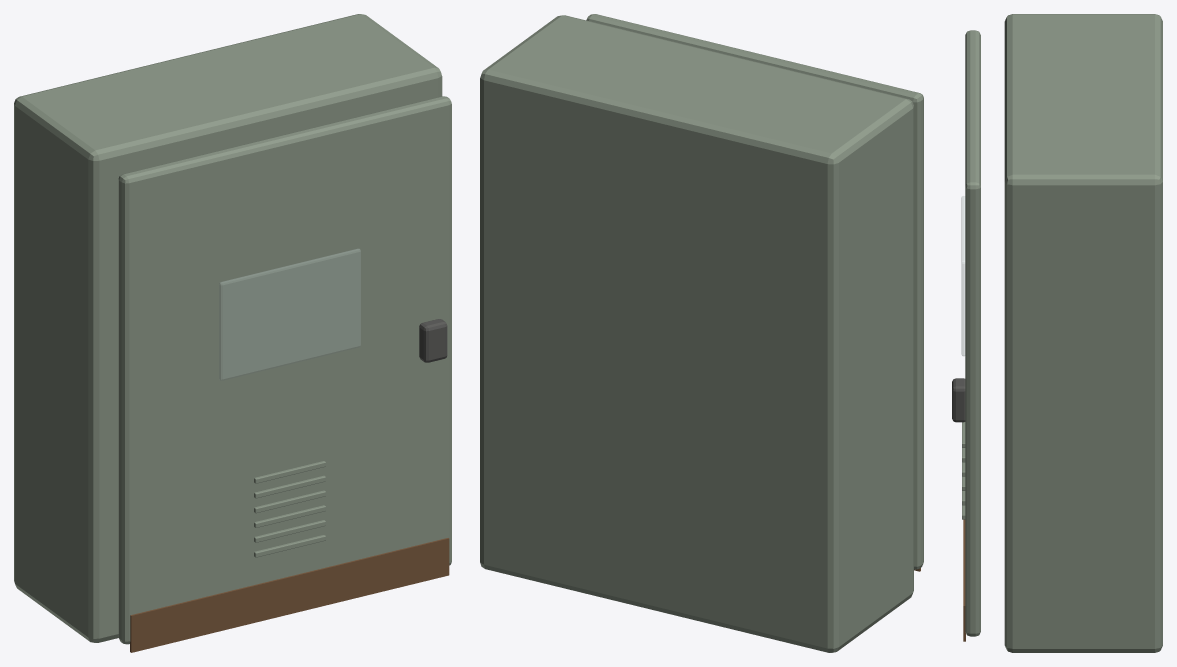
The model's file is HopCongTo.glb.
3 renders of one model, left to right at view 1: azimuth 30°, elevation 25°; view 2: azimuth 150°, elevation 25°; view 3: azimuth 270°, elevation 25°, orthographic. The views are drawn at different scales.
Parts seen in each view (by area): view 1: geometry_0; view 2: geometry_0; view 3: geometry_0.
Boxes of the visible parts, left/top/right/bottom form: geometry_0: left=14, top=14, right=451, bottom=652; geometry_0: left=480, top=14, right=923, bottom=652; geometry_0: left=952, top=14, right=1162, bottom=652.
Bounding box in the file's own units: 0.3 × 0.4 × 0.16.
